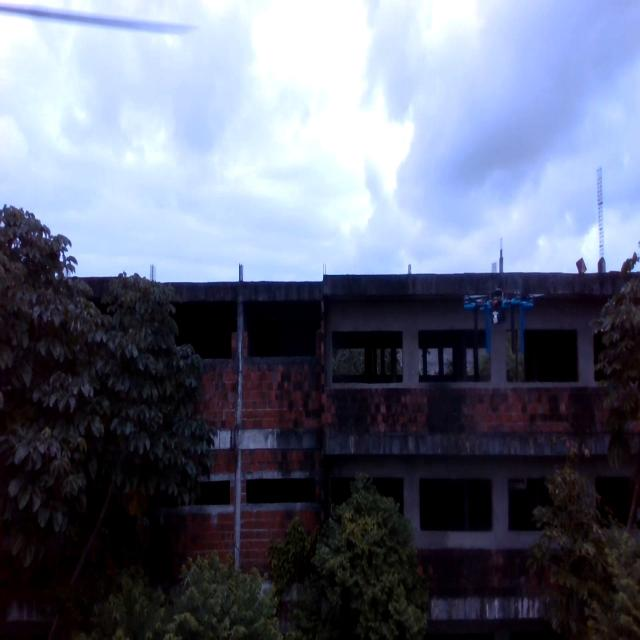-uav-: (452, 254, 542, 382)
